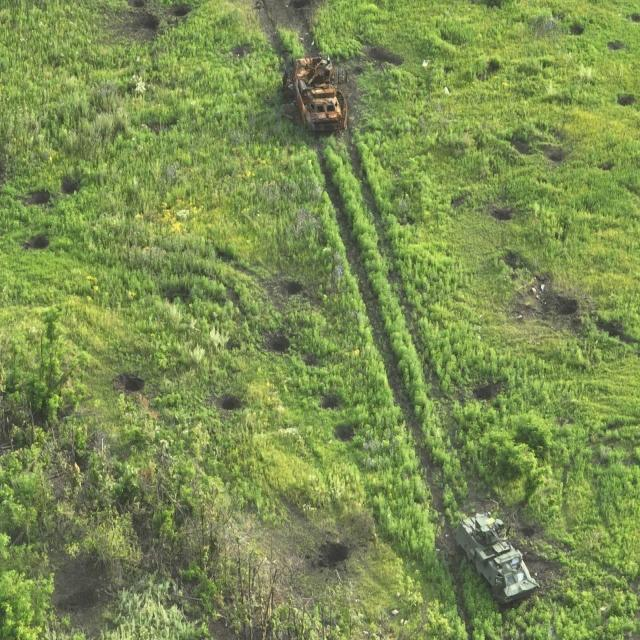APC: (452, 509, 546, 611)
Destroyed: (288, 51, 354, 136)
